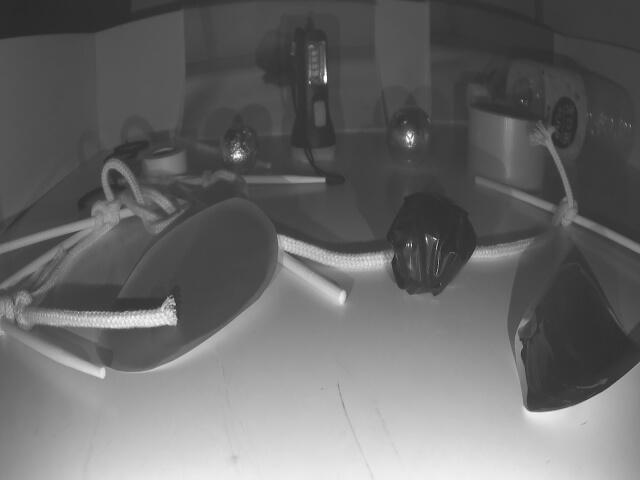Dead: (392, 189, 474, 296)
Live: (387, 107, 436, 164), (221, 123, 258, 169)
